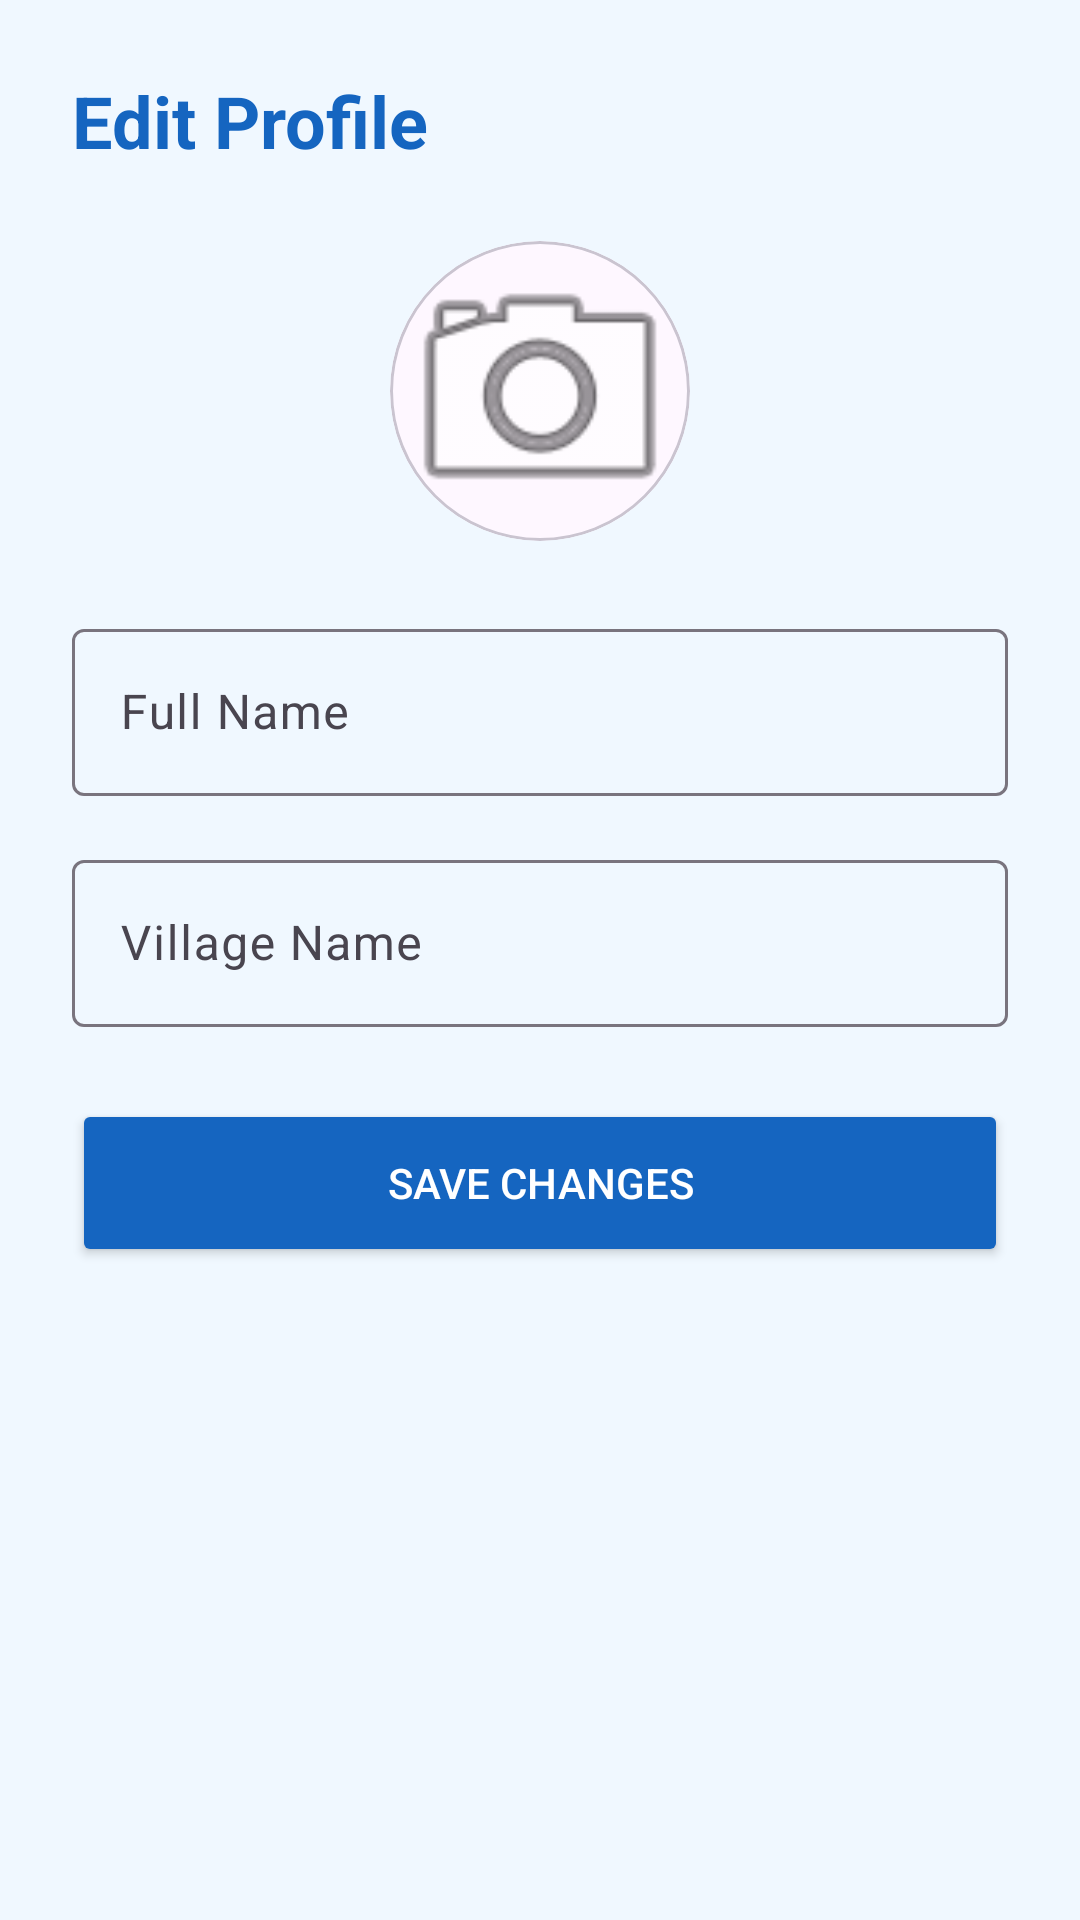

Icon bounding boxes for this 1080px x 1920px phone screenshot, format rect(x1, y1, x2, y2):
camera: rect(390, 241, 690, 541)
